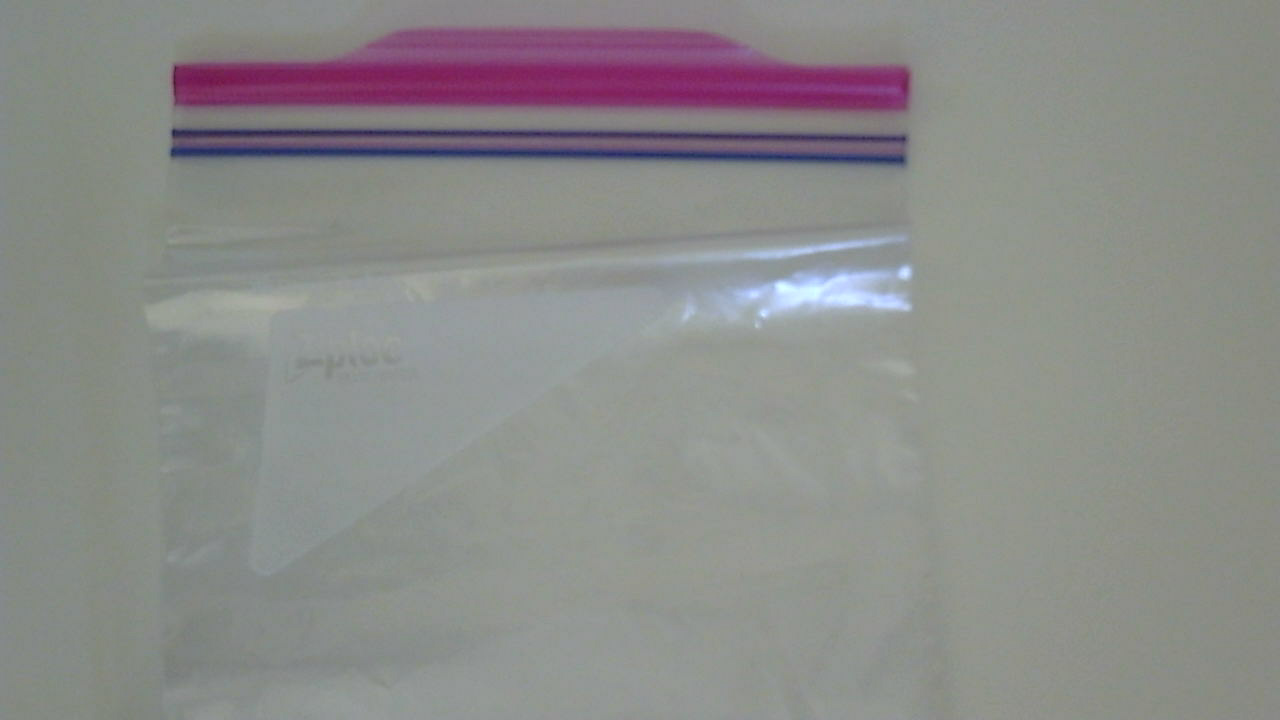Plastic Bag: (149, 13, 936, 720)
